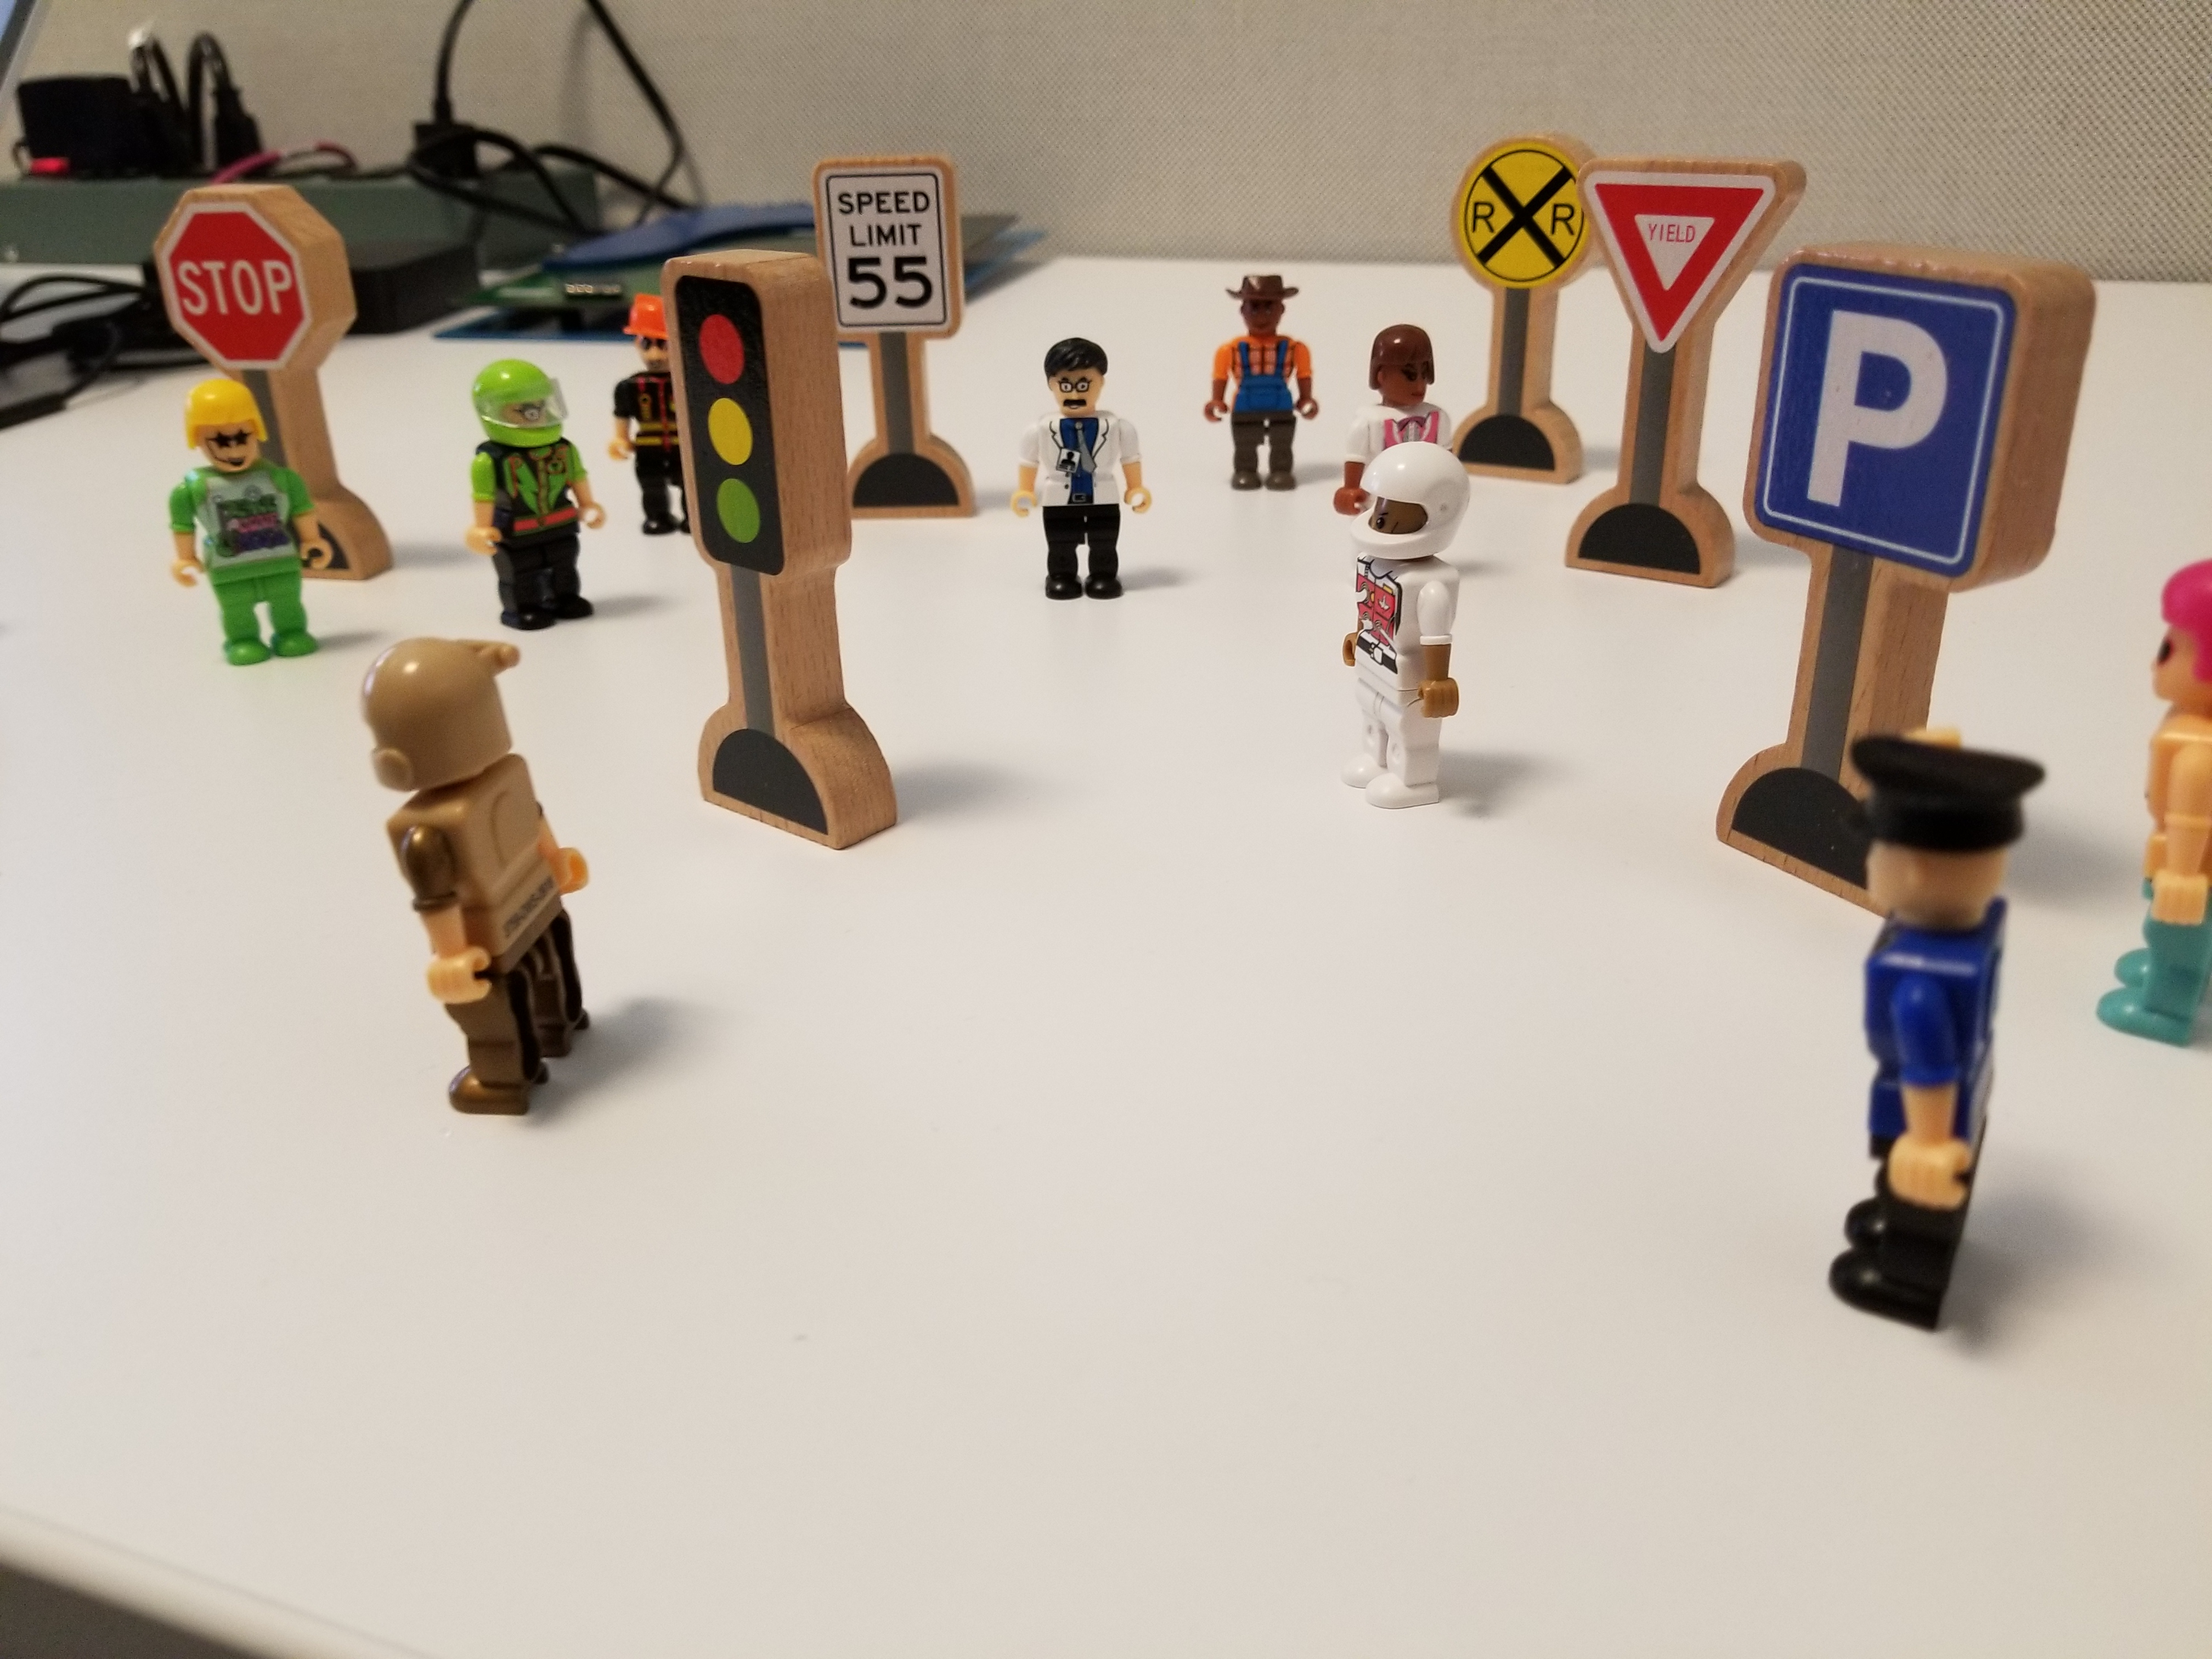Parking: (1772, 234, 2110, 659)
Railroad Crossing: (1447, 126, 1585, 379)
Speed limit 55: (811, 137, 982, 510)
Stop: (117, 172, 365, 376)
Traffic Light: (662, 236, 905, 846)
Yield: (1581, 133, 1796, 405)
person: (319, 607, 620, 1155), (1818, 708, 2046, 1414), (133, 359, 343, 688), (1329, 427, 1478, 866), (2103, 534, 2212, 1094), (989, 321, 1169, 622), (436, 337, 611, 629), (1193, 260, 1311, 508), (611, 282, 690, 569), (1335, 308, 1460, 460)
